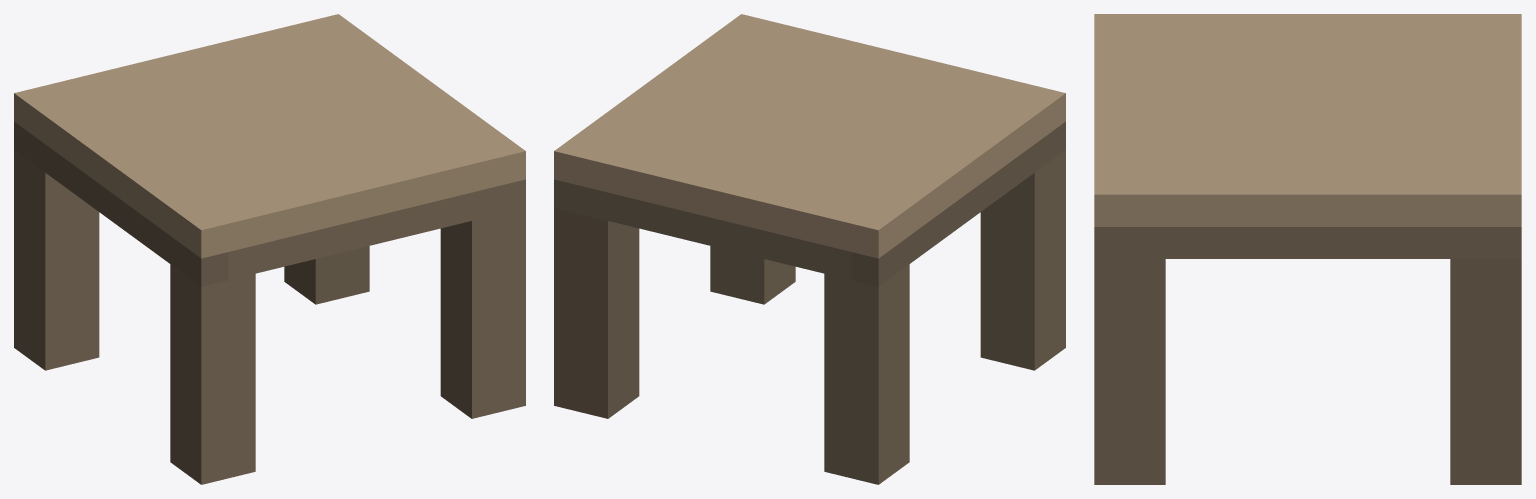
File: mesa_navegacion_desgastada_01.glb
3 renders of one model, left to right at view 1: azimuth 30°, elevation 25°; view 2: azimuth 150°, elevation 25°; view 3: azimuth 270°, elevation 25°, orthographic. The views are drawn at different scales.
Parts seen in each view (by area): view 1: mesa_navegacion_desgastada; view 2: mesa_navegacion_desgastada; view 3: mesa_navegacion_desgastada.
Part boxes in pixels (x1=…): mesa_navegacion_desgastada: x1=14, y1=14, x2=525, y2=484; mesa_navegacion_desgastada: x1=554, y1=14, x2=1065, y2=484; mesa_navegacion_desgastada: x1=1094, y1=14, x2=1521, y2=484.
Size of the model in its own units: 1 by 0.75 by 1.
